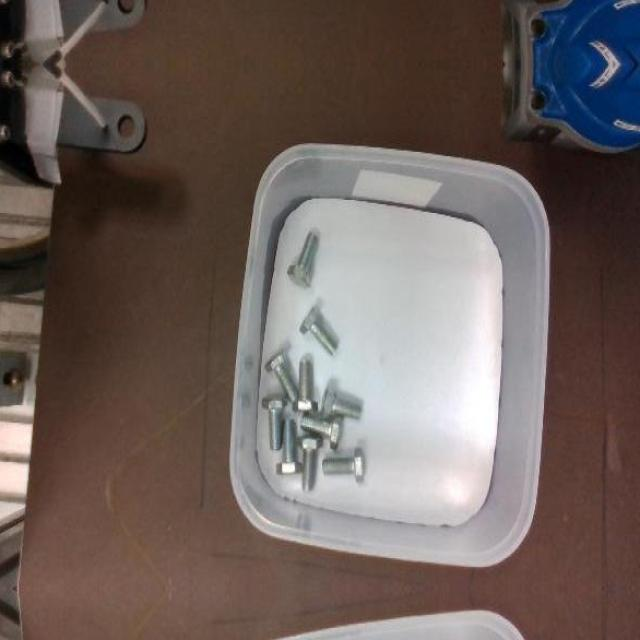screw: (298, 304, 338, 354), (264, 348, 298, 402), (286, 232, 318, 288), (322, 447, 365, 483), (299, 414, 343, 449), (296, 432, 322, 491), (261, 393, 287, 450), (276, 418, 302, 475), (292, 359, 318, 414), (319, 387, 361, 420)
